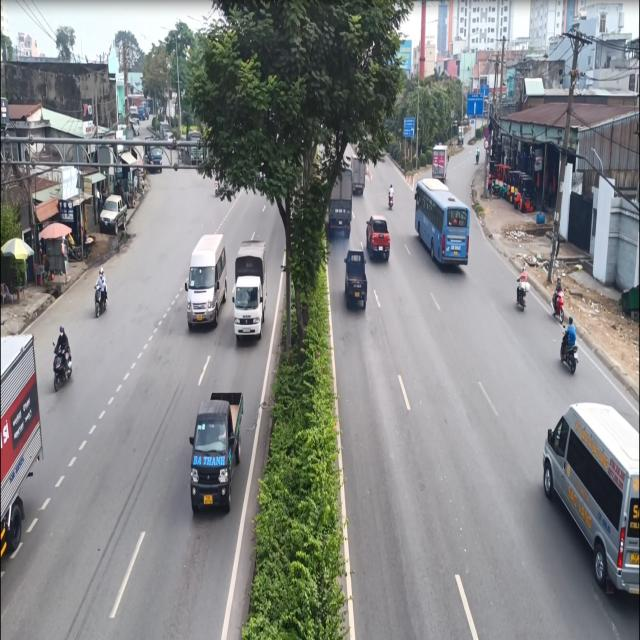bus: (415, 176, 468, 275)
car: (532, 382, 640, 610), (185, 229, 227, 335), (367, 209, 391, 270)
motor: (558, 320, 580, 372), (515, 261, 531, 316), (551, 271, 568, 322)
truck: (189, 379, 242, 521), (231, 238, 267, 344), (49, 324, 74, 395), (345, 248, 368, 318), (92, 261, 109, 322)
